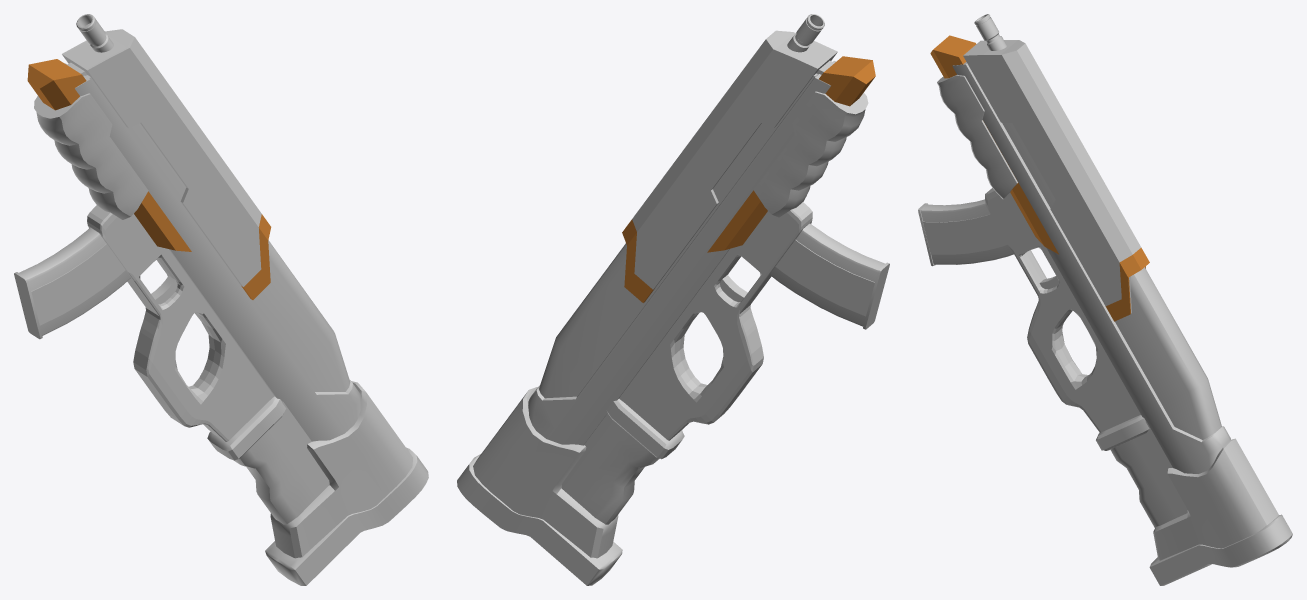
Rendered from limitator.gltf.
3 views of the same model, side by side, from view 1: azimuth 30°, elevation 25°; view 2: azimuth 150°, elevation 25°; view 3: azimuth 330°, elevation 25° (orthographic). The views are drawn at different scales.
Parts seen in each view (by area): view 1: AR_4; view 2: AR_4; view 3: AR_4.
Part boxes in pixels (box(x1,y1,x2,y2)): AR_4: box(14, 14, 428, 585); AR_4: box(457, 14, 889, 585); AR_4: box(918, 14, 1292, 585).
Size of the model in its own units: 0.407 by 0.5786 by 0.069.
